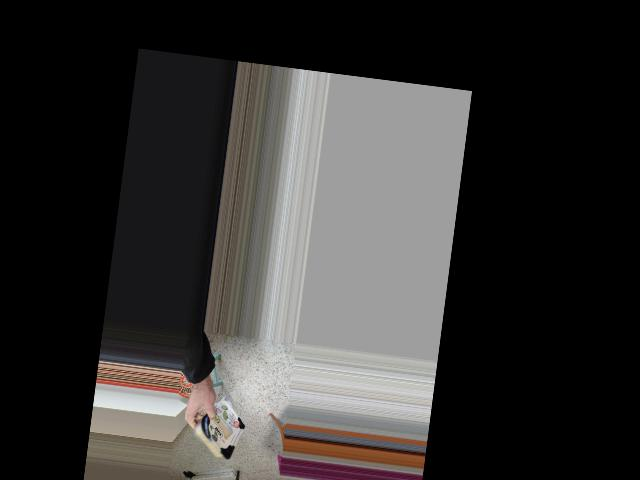cheese: (174, 398, 254, 462)
